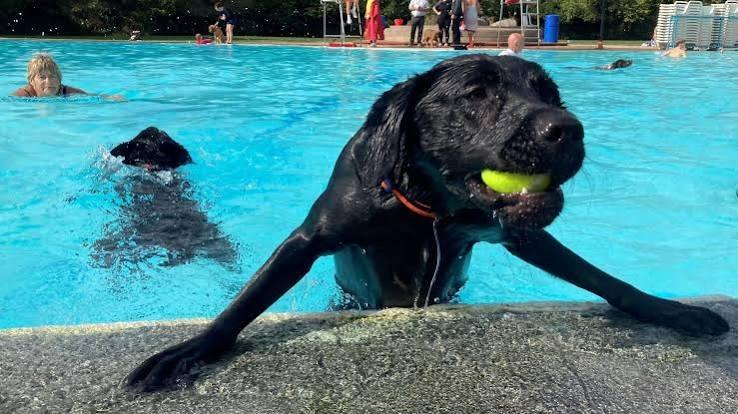adult_dog: (122, 49, 731, 393), (93, 124, 241, 275), (596, 59, 632, 71)
non-dog: (10, 52, 124, 104), (436, 0, 461, 48), (408, 0, 432, 45), (461, 0, 480, 49), (216, 0, 236, 44), (345, 0, 364, 41), (365, 0, 382, 45), (506, 29, 526, 56), (668, 38, 688, 57), (208, 21, 225, 43)
